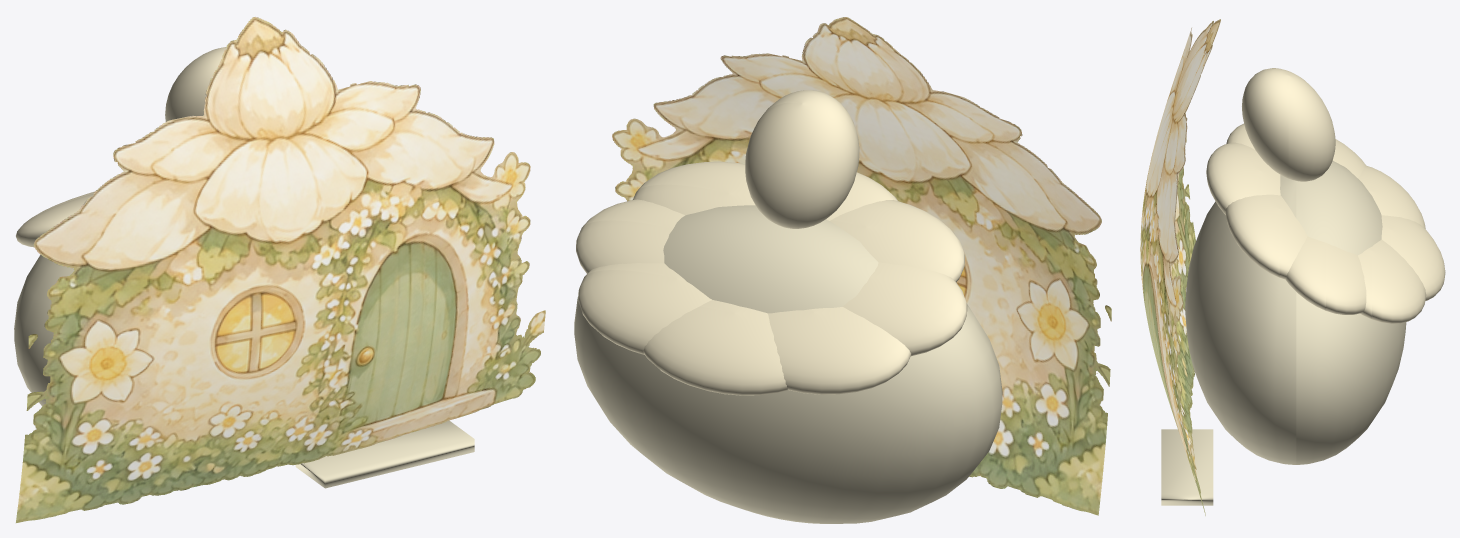
Rendered from garden_cottage.glb.
3 renders of one model, left to right at view 1: azimuth 30°, elevation 25°; view 2: azimuth 150°, elevation 25°; view 3: azimuth 270°, elevation 25°, orthographic. The views are drawn at different scales.
Parts seen in each view (by area): view 1: cottage / painted relief, Entrance / stone step, Cottage / rounded masonry shell, Roof / flower bud, Roof / petal 5; view 2: cottage / painted relief, Cottage / rounded masonry shell, Roof / flower bud, Roof / petal 7, Roof / petal 6, Roof / petal 8, Roof / petal 5, Roof / petal 4, Roof / petal 1, Roof / petal 2, Roof / petal 3; view 3: Cottage / rounded masonry shell, cottage / painted relief, Roof / flower bud, Roof / petal 2, Roof / petal 1, Roof / petal 8, Entrance / stone step, Roof / petal 3, Roof / petal 7, Roof / petal 6, Roof / petal 5, Roof / petal 4.
Part boxes in pixels (x1,y1,x2,y2): cottage / painted relief: (16,17,545,522); Entrance / stone step: (295,420,474,488); Cottage / rounded masonry shell: (14,255,74,406); Roof / flower bud: (165,47,226,121); Roof / petal 5: (16,194,93,247); cottage / painted relief: (612,17,1111,515); Cottage / rounded masonry shell: (574,205,1002,523); Roof / flower bud: (745,90,859,228); Roof / petal 7: (643,300,787,395); Roof / petal 6: (768,307,911,394); Roof / petal 8: (578,263,711,354); Roof / petal 5: (843,262,967,356); Roof / petal 4: (830,200,964,282); Roof / petal 1: (576,199,684,273); Roof / petal 2: (633,161,754,215); Roof / petal 3: (826,172,897,220); Cottage / rounded masonry shell: (1185,161,1406,464); cottage / painted relief: (1140,19,1220,515); Roof / flower bud: (1242,68,1335,181); Roof / petal 2: (1225,194,1307,279); Roof / petal 1: (1285,236,1366,314); Roof / petal 8: (1358,239,1426,323); Entrance / stone step: (1161,429,1213,505); Roof / petal 3: (1206,142,1280,214); Roof / petal 7: (1381,215,1445,300); Roof / petal 6: (1358,165,1425,228); Roof / petal 5: (1332,139,1366,178); Roof / petal 4: (1226,123,1254,149).
Size of the model in its own units: 10.8 by 9.19 by 6.17.
Materials: 3 (1 with a texture image).
